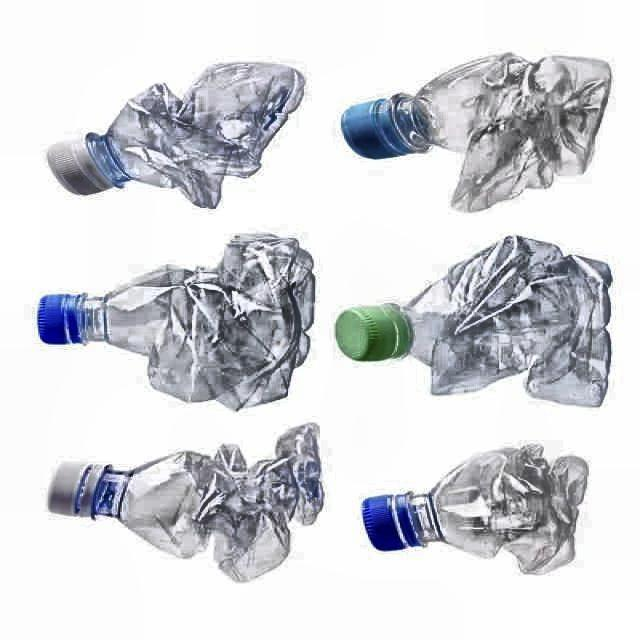plastic: (38, 235, 315, 409), (336, 236, 610, 406), (49, 424, 322, 580), (344, 55, 610, 211), (48, 64, 304, 207), (364, 446, 588, 573)
